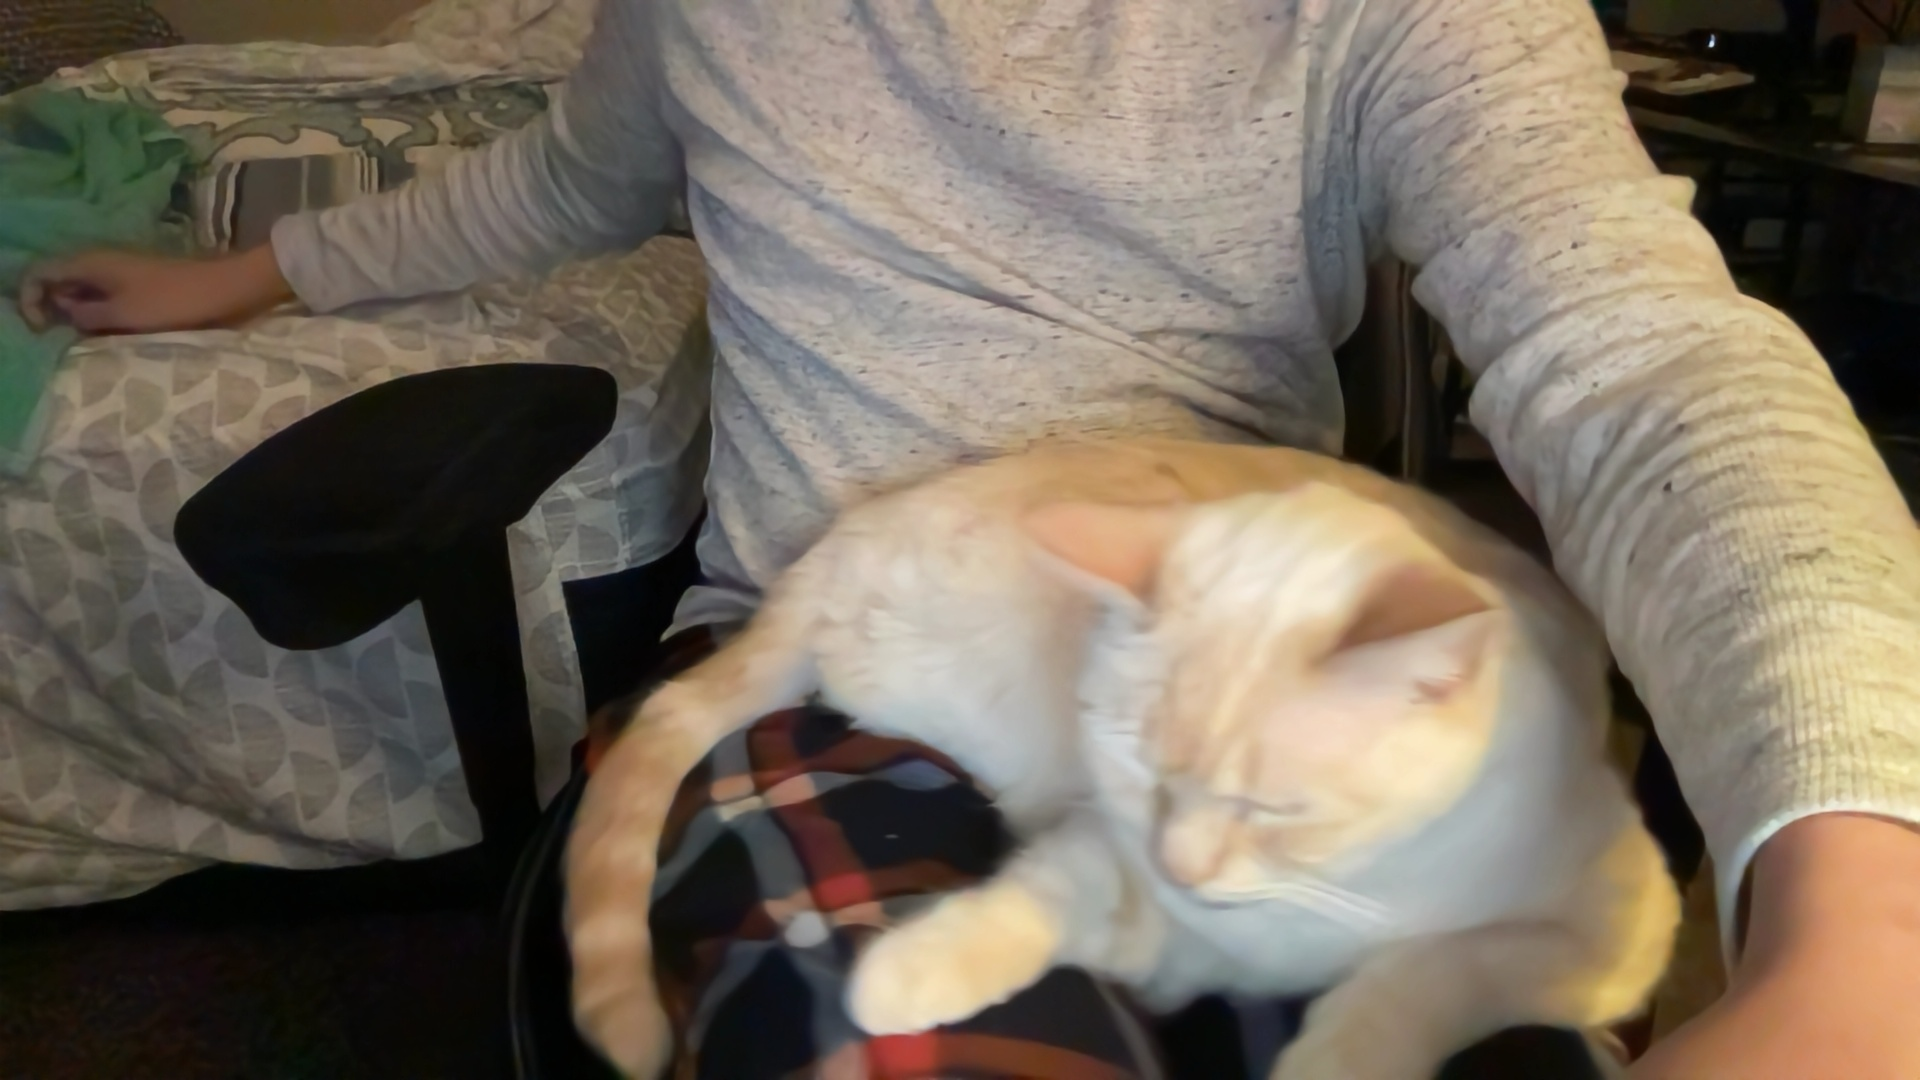cat: (560, 406, 1730, 1080)
